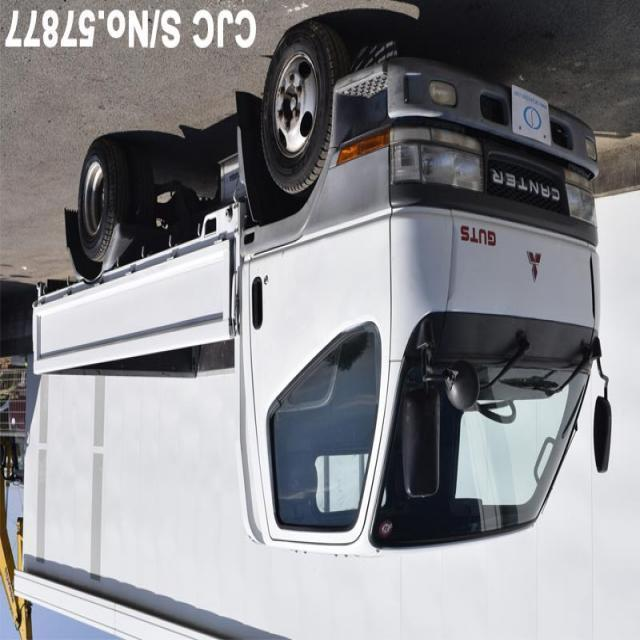truck: (33, 31, 612, 555)
